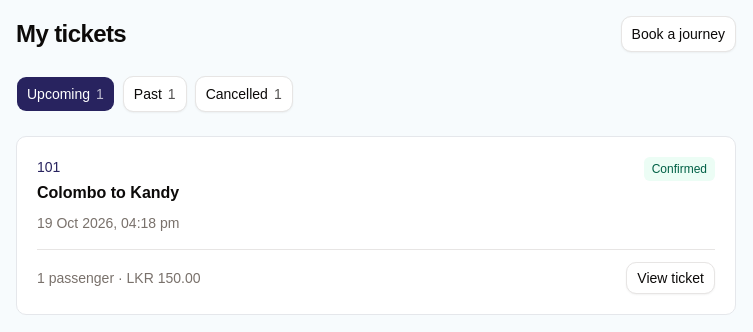
MyTicketsPage › switches between Upcoming, Past and Cancelled
Expected: the heading "Colombo to Kandy" is shown, [37,181,179,205]
Click the button "Past 1" at (155, 94), box [123,76,187,112]
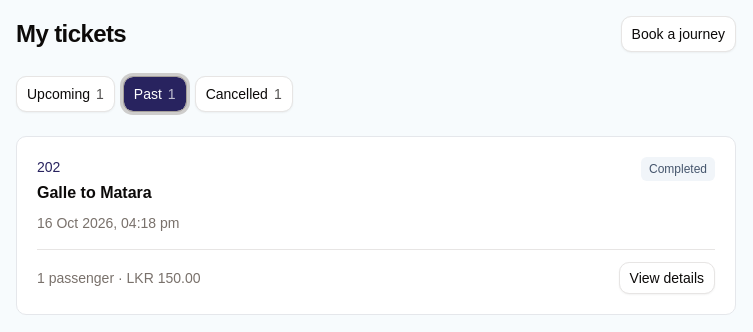
Result: the heading "Galle to Matara" is shown at [37,184,152,201]
Result: the heading "Colombo to Kandy" is gone
Click the button "Cancelled 1" at (244, 94), box [195,76,293,112]
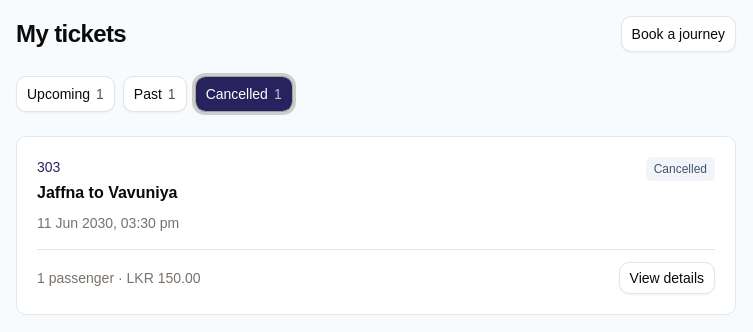
Result: the heading "Jaffna to Vavuniya" is shown at [37,181,179,205]
